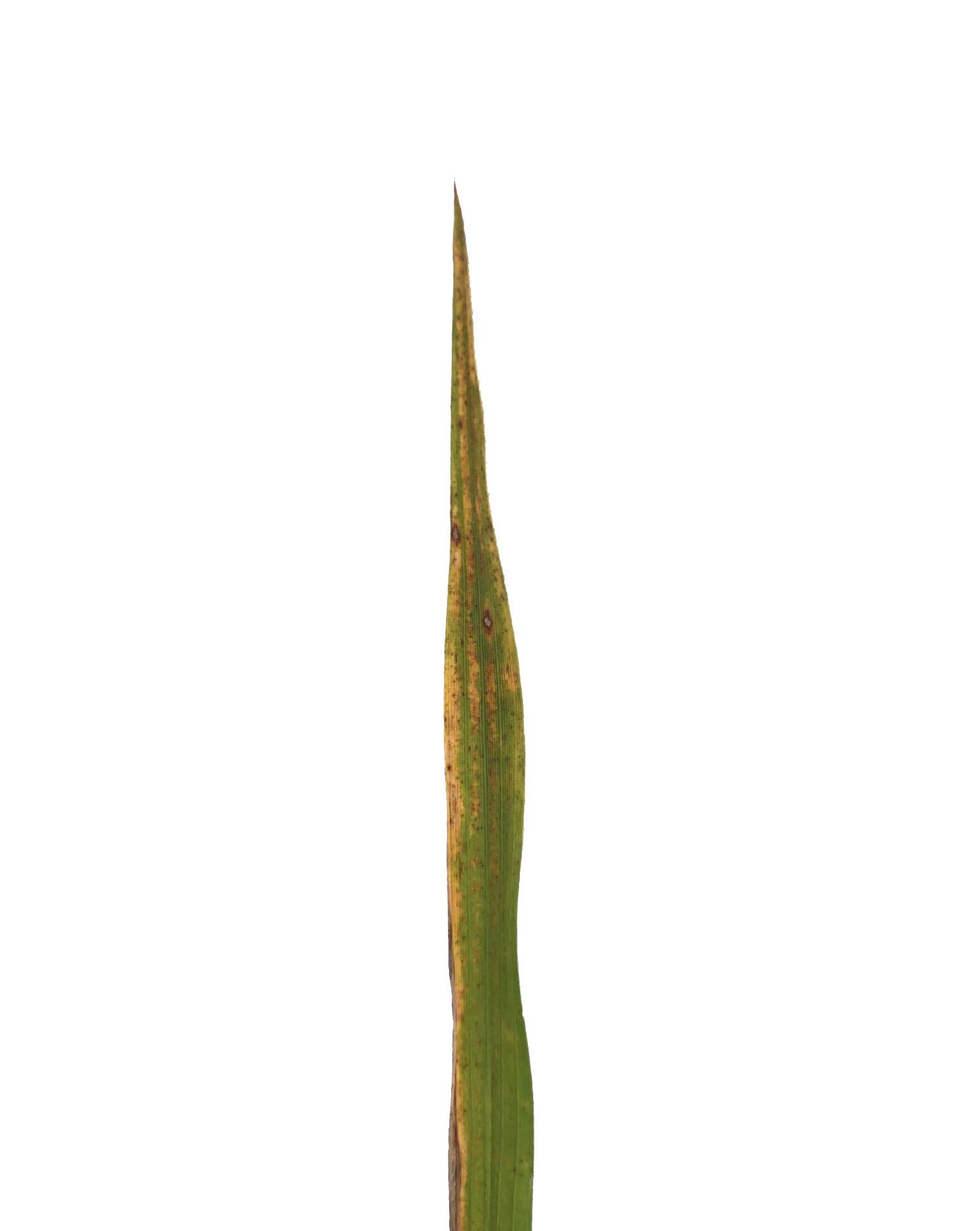Tungro: (442, 196, 536, 1231)
